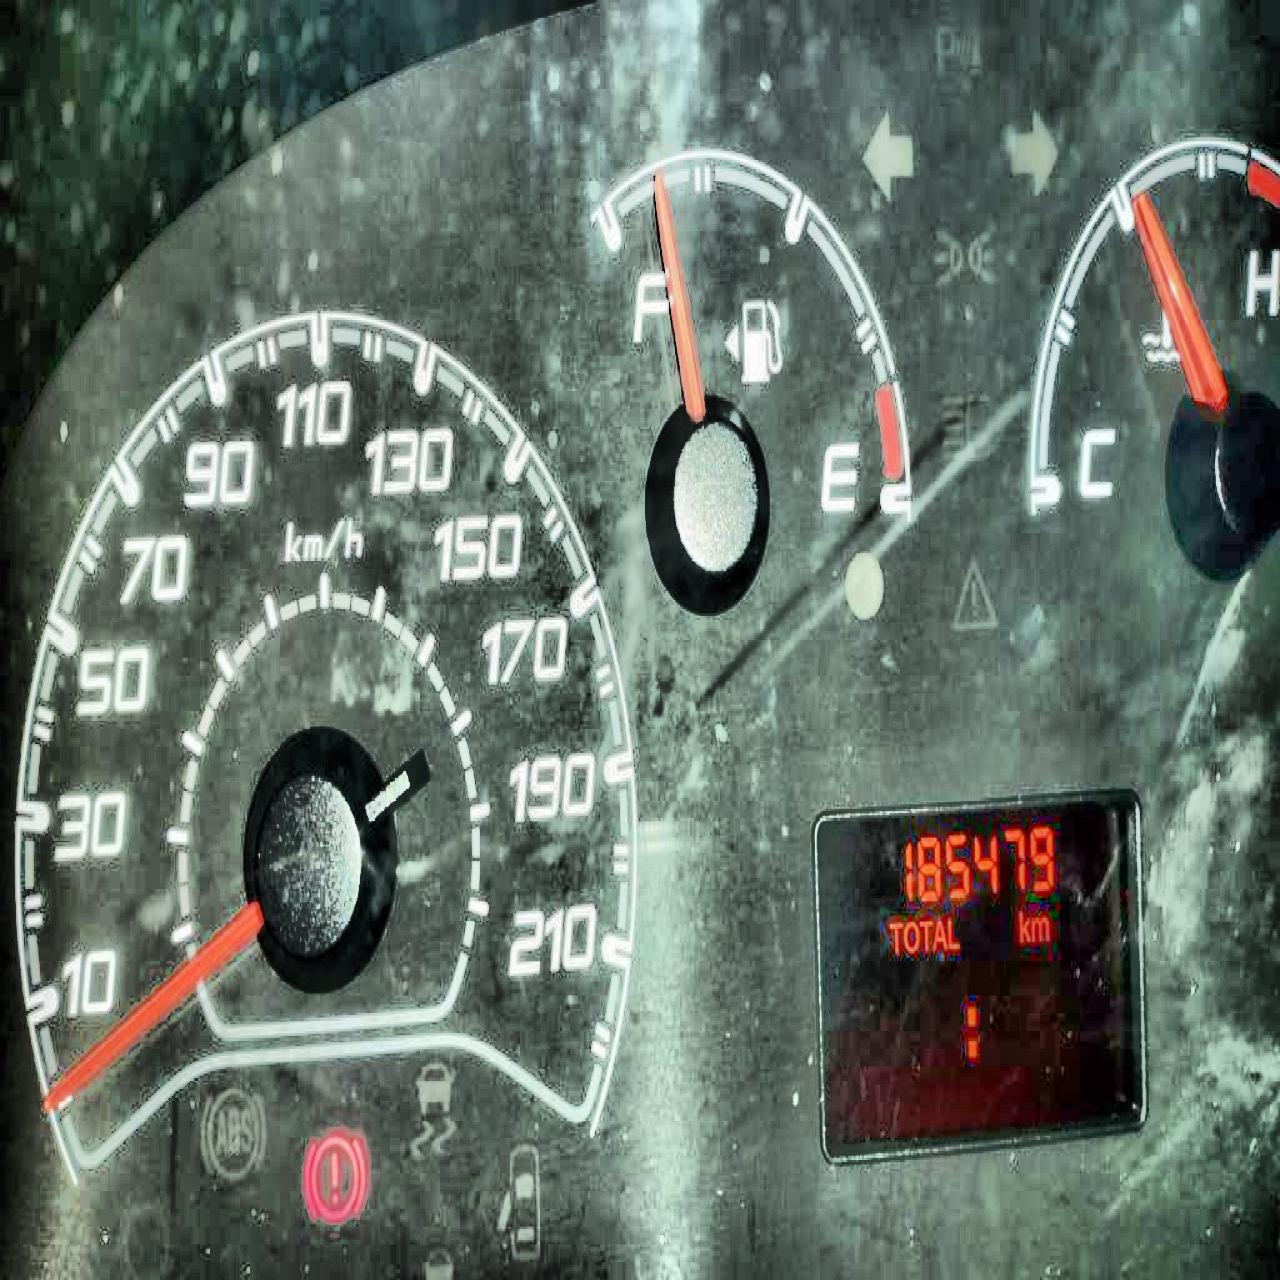1: (904, 838, 914, 903)
4: (971, 829, 1000, 896)
5: (945, 829, 969, 896)
7: (1003, 828, 1027, 888)
8: (917, 833, 941, 900)
9: (1029, 825, 1056, 891)
X: (965, 1002, 979, 1060), (1032, 913, 1051, 945), (887, 915, 903, 955), (946, 915, 961, 953), (904, 918, 919, 953), (933, 915, 946, 952), (1017, 905, 1028, 946), (919, 915, 931, 952)
odometer: (809, 779, 1150, 1160)
